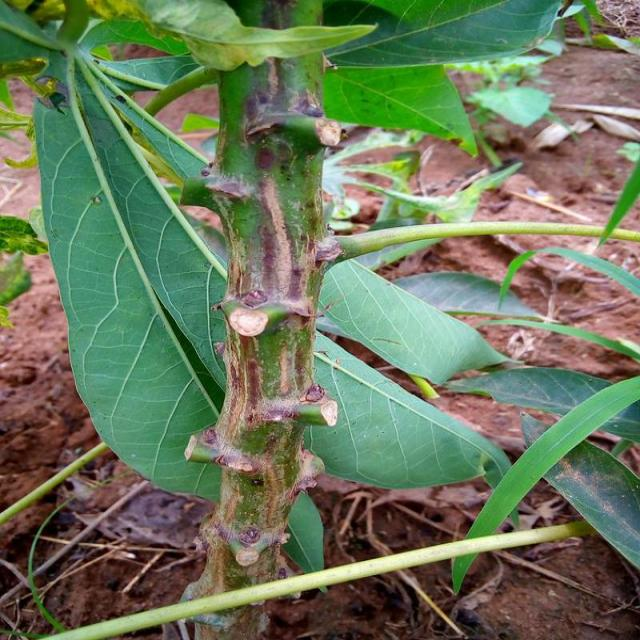cassava leaf: (31, 54, 230, 503), (302, 327, 515, 492)
